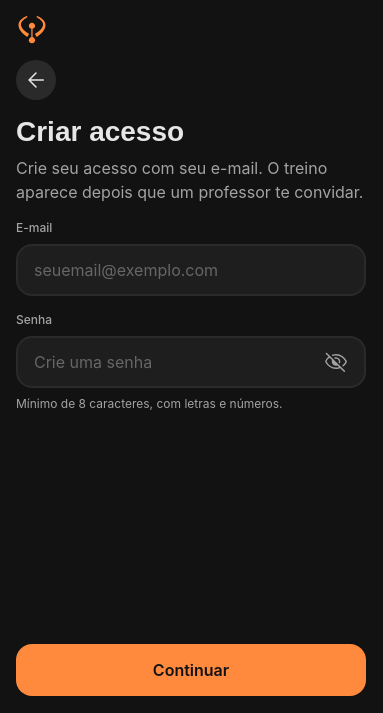
Test: Criar acesso (regras 47, 78 e 89) › senha recusada pelo servidor vira erro no campo de senha
Step 1. Type "ana@exemplo.com" into the field labelled "E-mail" → (191, 270), box [34,246,348,294]
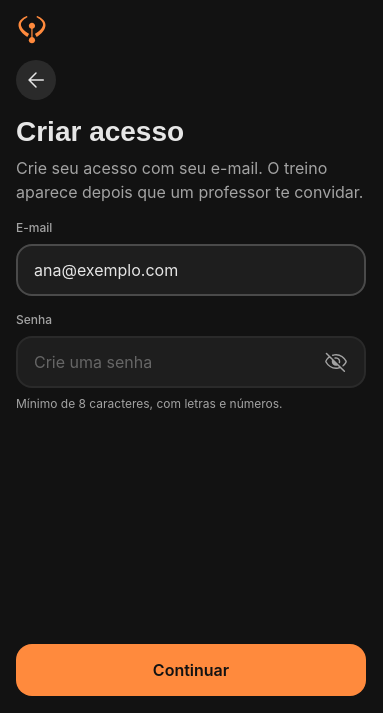
Step 2. Type "abc12345" into the password field labelled "Senha" → (169, 362), box [34,338,304,386]
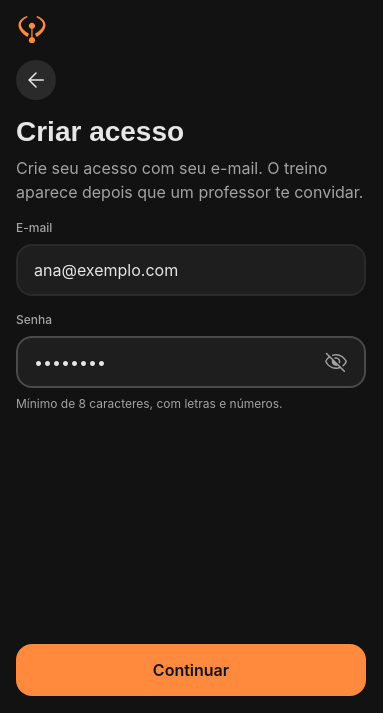
Step 3. Click the button "Continuar" → (191, 670), box [16,644,366,696]
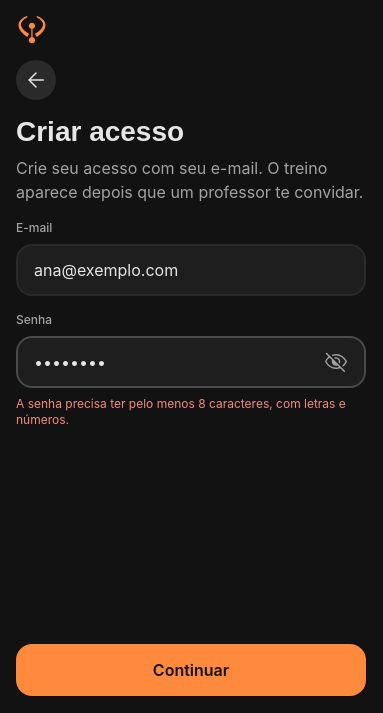
Now the text "A senha precisa ter pelo menos 8 caracteres, com letras e números." is shown, box [16,396,366,428]
